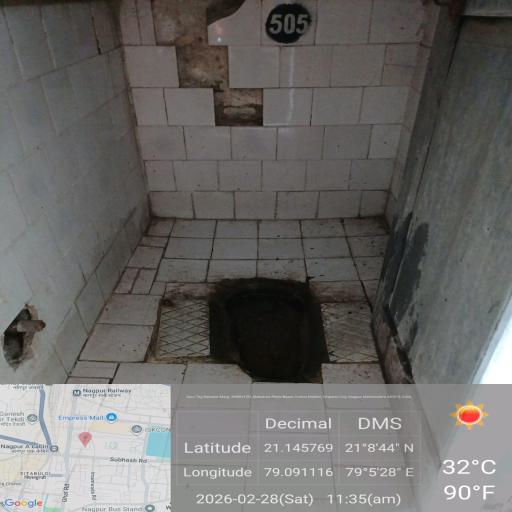clean_floor: (0, 24, 101, 288), (443, 38, 512, 369)
damage: (135, 0, 284, 131)
dirty_floor: (91, 202, 424, 390)
partial_dirty_floor: (296, 1, 428, 181), (114, 142, 308, 206)
